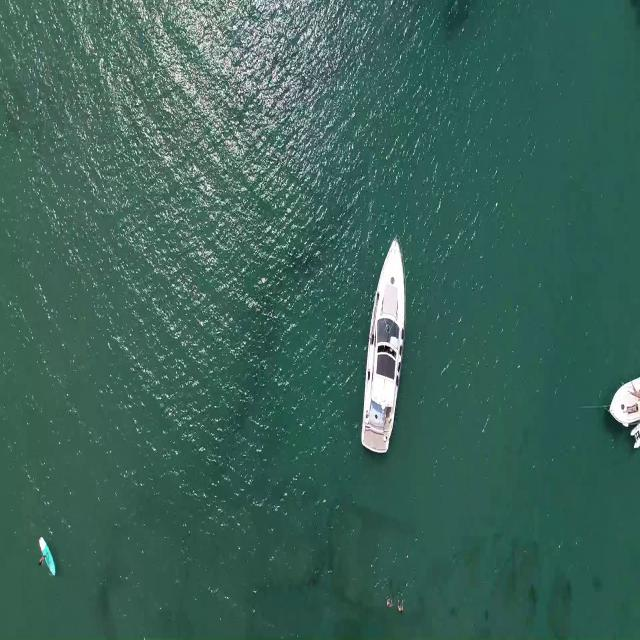boat: (359, 238, 406, 453), (604, 372, 640, 453)
person: (37, 550, 48, 565), (397, 599, 406, 614), (384, 596, 394, 609)
surfboard: (39, 532, 55, 580)
